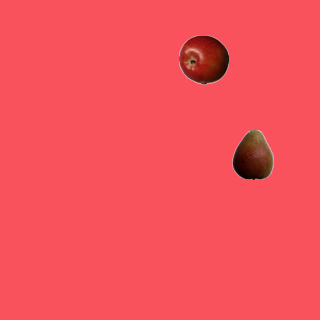Apple Braeburn: (178, 34, 228, 84)
Pear Forelle: (227, 129, 277, 179)
